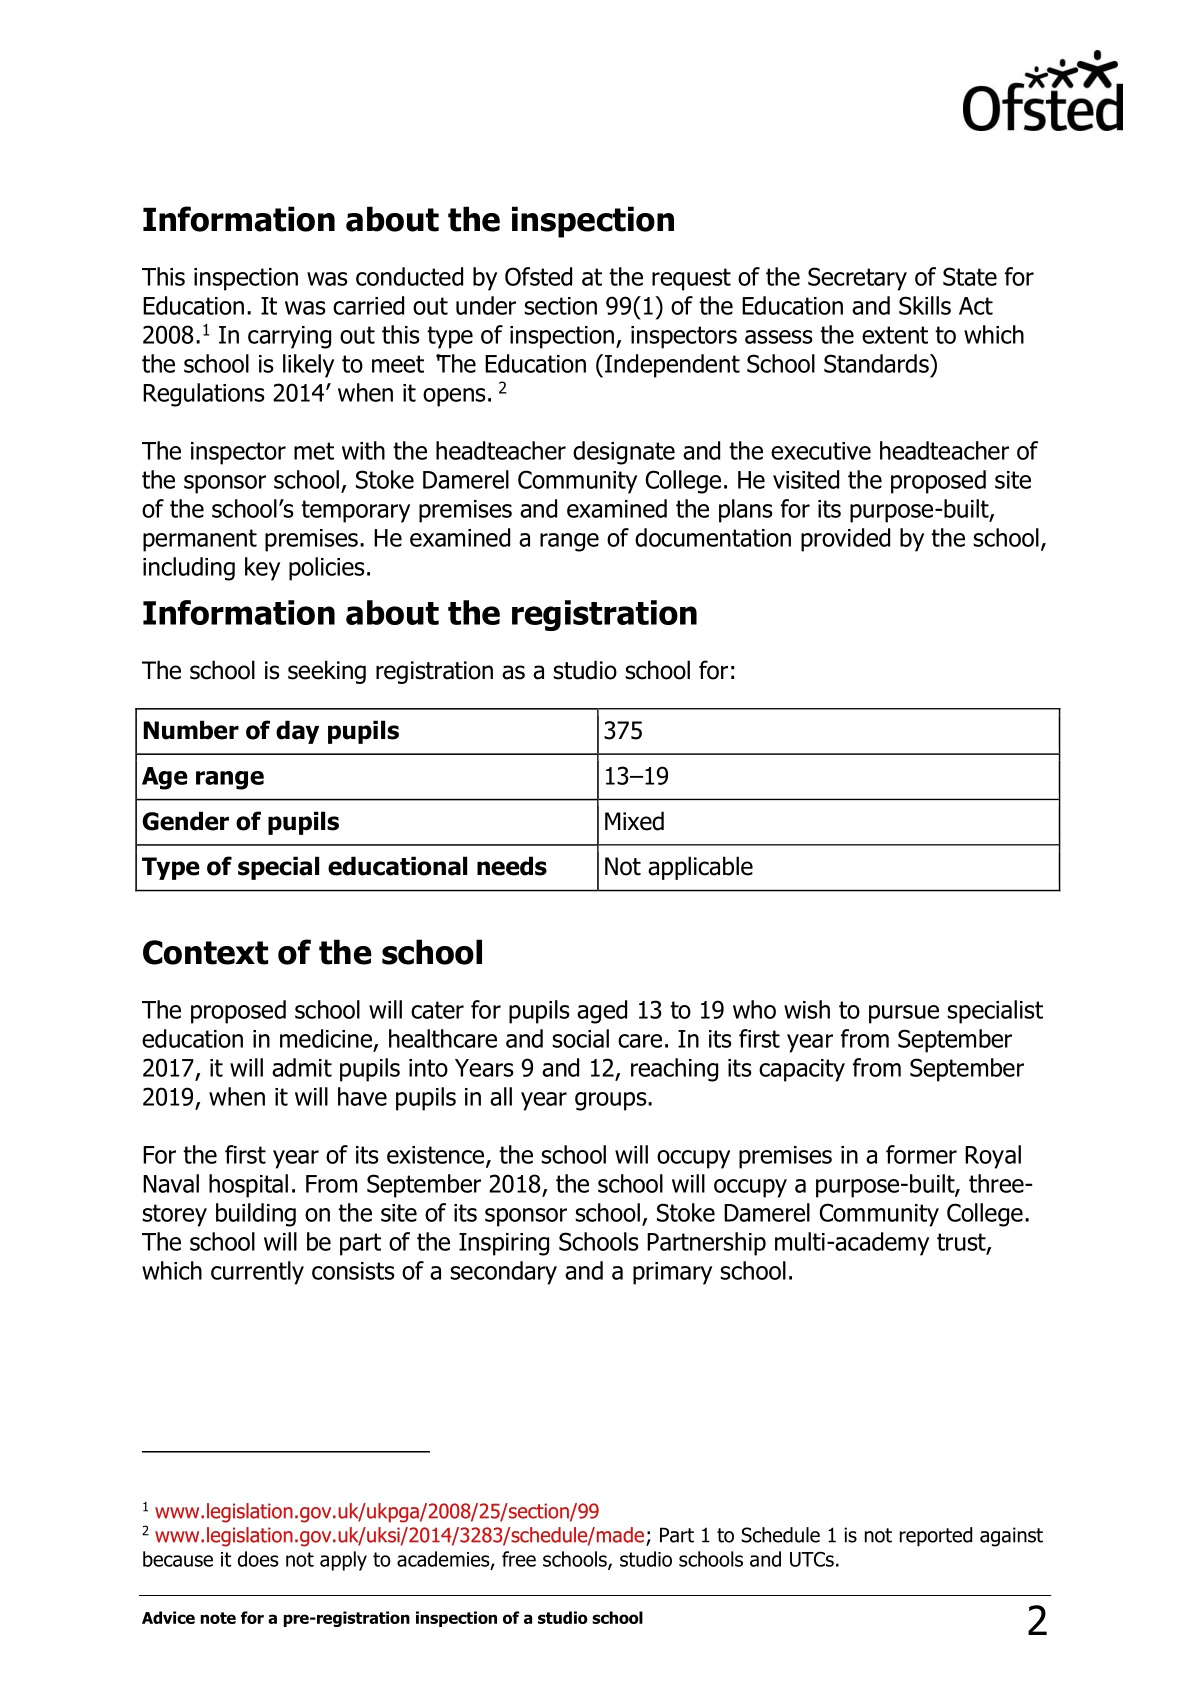full_lined: (135, 706, 1062, 893)
